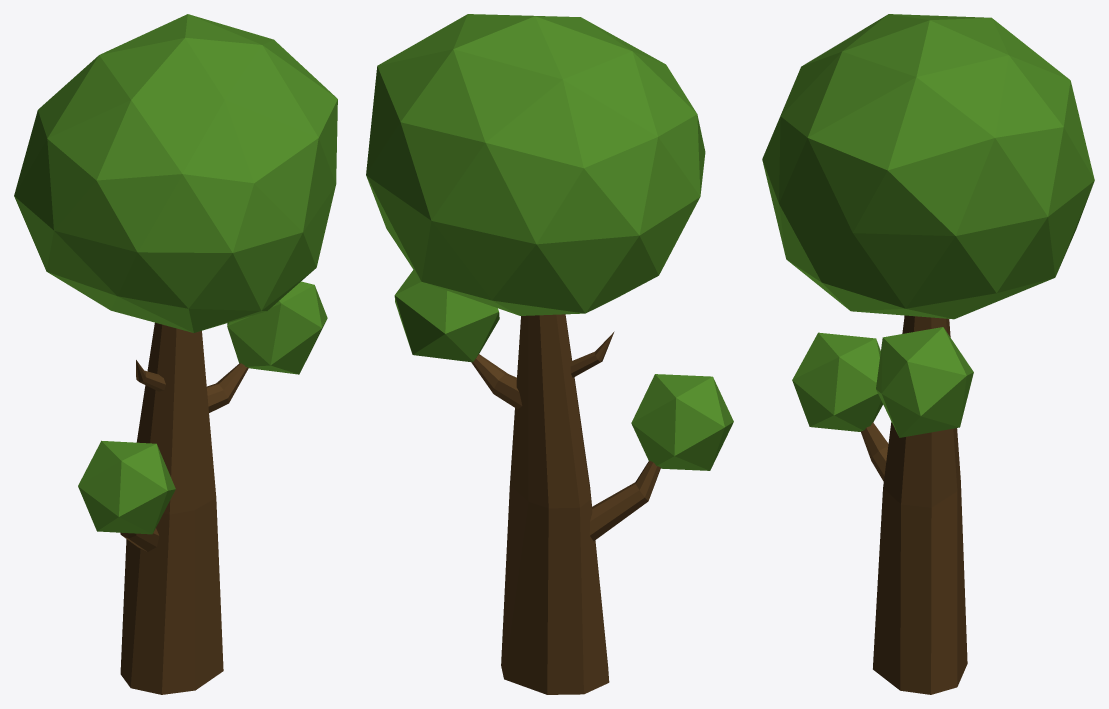
Rendered from tree_green.glb.
3 renders of one model, left to right at view 1: azimuth 30°, elevation 25°; view 2: azimuth 150°, elevation 25°; view 3: azimuth 270°, elevation 25°, orthographic. The views are drawn at different scales.
Visible parts, largest first — view 1: tree.012; view 2: tree.012; view 3: tree.012.
Boxes of the visible parts, x1,y1,x2,y2 form: tree.012: (14, 14, 337, 694); tree.012: (366, 14, 733, 694); tree.012: (762, 14, 1094, 694).
Size of the model in its own units: 3.66 by 7.61 by 3.48.
